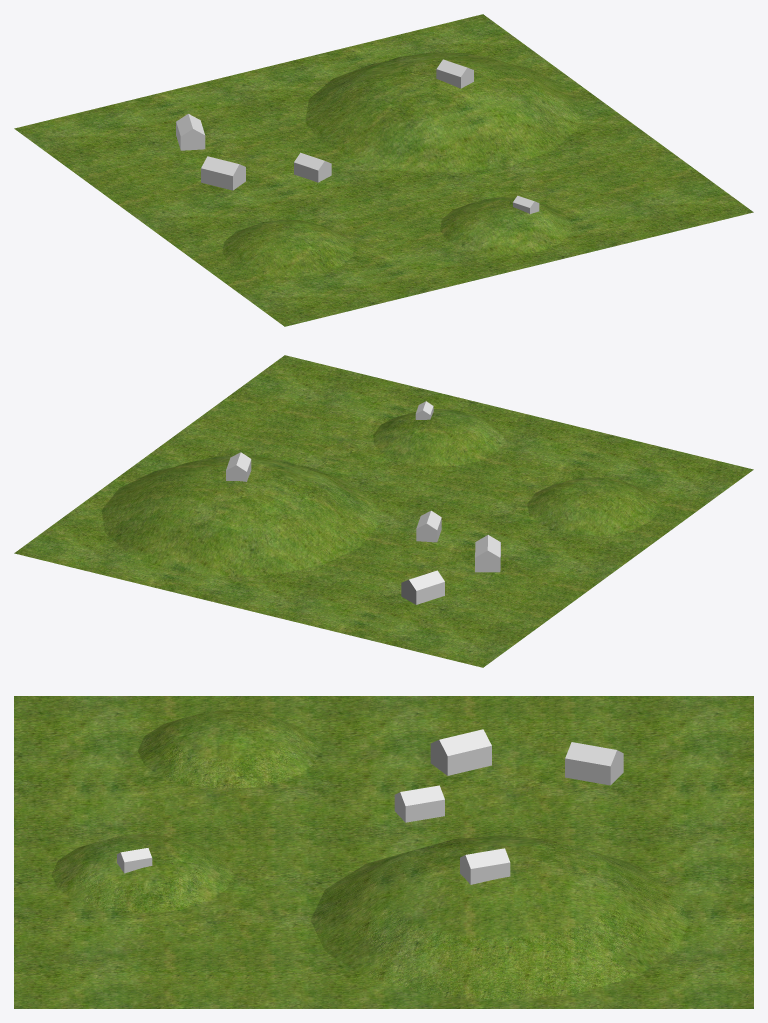
File: Countryside - Neutral.fbx
3 renders of one model, top to bottom at view 1: azimuth 30°, elevation 25°; view 2: azimuth 150°, elevation 25°; view 3: azimuth 270°, elevation 25°, orthographic. The views are drawn at different scales.
Parts seen in each view (by area): view 1: Countryside, House4, House5, House1, House3; view 2: Countryside, House5, House4, House1, House3; view 3: Countryside, House4, House5, House1, House3, House2.
Part boxes in pixels (left/top/right/bottom): Countryside: left=14, top=14, right=753, bottom=326; House4: left=201, top=156, right=245, bottom=190; House5: left=176, top=114, right=205, bottom=150; House1: left=294, top=152, right=331, bottom=182; House3: left=436, top=59, right=473, bottom=88; Countryside: left=14, top=355, right=753, bottom=667; House5: left=401, top=570, right=444, bottom=604; House4: left=475, top=535, right=500, bottom=572; House1: left=416, top=510, right=441, bottom=542; House3: left=226, top=452, right=251, bottom=481; Countryside: left=14, top=696, right=753, bottom=1008; House4: left=430, top=729, right=491, bottom=775; House5: left=565, top=742, right=623, bottom=785; House1: left=394, top=785, right=444, bottom=822; House3: left=460, top=848, right=510, bottom=884; House2: left=117, top=848, right=152, bottom=873.
Bounding box in the file's own units: 100 × 100 × 10.9.
Materials: 1 (1 with a texture image).
